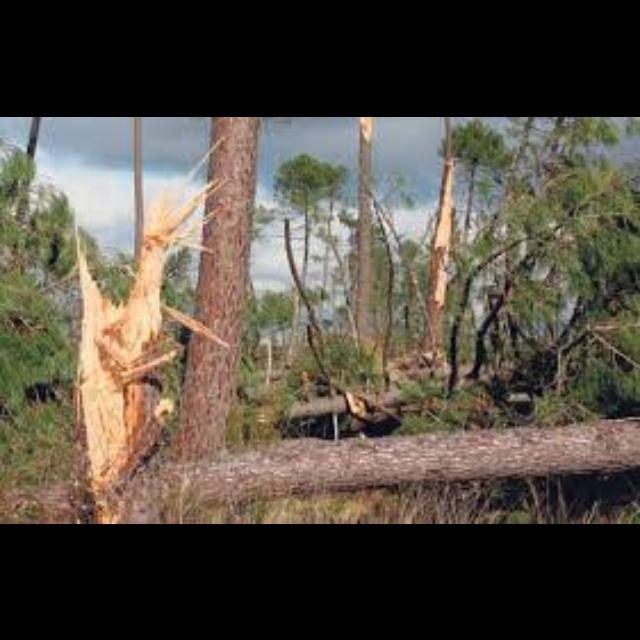Fallen Tree: (2, 410, 640, 512), (237, 376, 447, 429)
